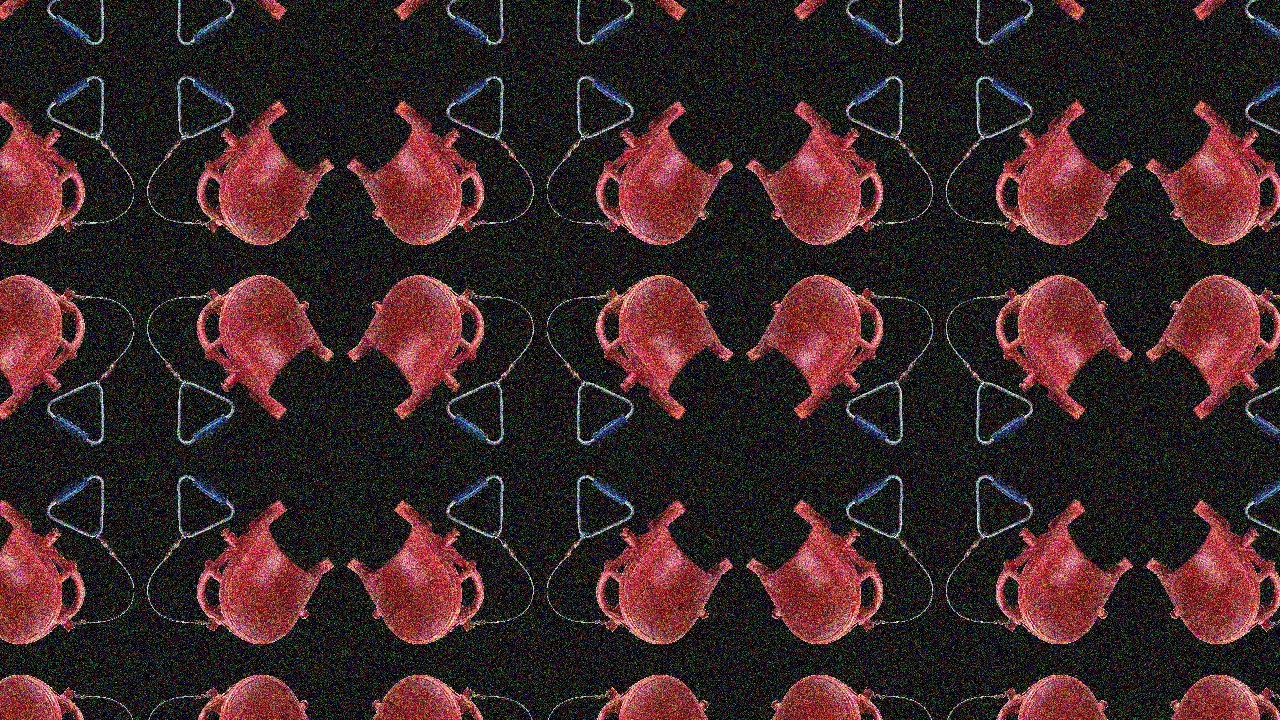chock: (195, 99, 335, 245), (345, 99, 485, 245), (595, 99, 735, 245), (745, 99, 885, 245), (995, 99, 1135, 245), (195, 275, 335, 421), (345, 275, 485, 421), (595, 275, 735, 421), (745, 275, 885, 421), (995, 275, 1135, 421), (195, 499, 335, 645), (345, 499, 485, 645), (595, 499, 735, 645), (745, 499, 885, 645), (995, 499, 1135, 645), (1145, 99, 1280, 245), (1145, 275, 1280, 421), (1145, 499, 1280, 645), (0, 99, 85, 245), (0, 275, 85, 421), (0, 499, 85, 645), (195, 675, 335, 720), (345, 675, 485, 720), (595, 675, 735, 720), (745, 675, 885, 720), (995, 675, 1135, 720), (1145, 675, 1280, 720), (0, 675, 85, 720), (195, 0, 335, 21), (345, 0, 485, 21), (595, 0, 735, 21), (745, 0, 885, 21), (995, 0, 1135, 21), (1145, 0, 1280, 21), (0, 0, 85, 21)
